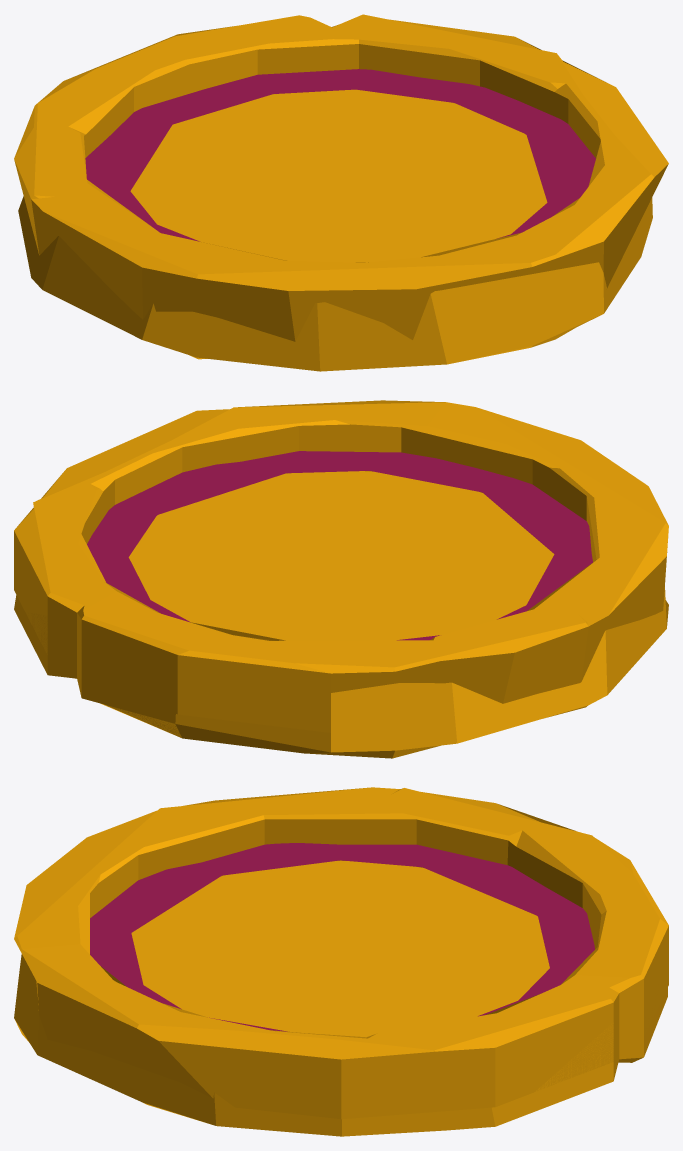
The model's file is geniecoin-blank.glb.
The picture shows the model from 3 angles, top to bottom: view 1: azimuth 30°, elevation 25°; view 2: azimuth 150°, elevation 25°; view 3: azimuth 270°, elevation 25°; orthographic projection.
Visible parts, largest first — view 1: coin-blank; view 2: coin-blank; view 3: coin-blank.
Part boxes in pixels (left/top/right/bottom): coin-blank: left=14, top=14, right=668, bottom=371; coin-blank: left=14, top=400, right=668, bottom=758; coin-blank: left=14, top=787, right=668, bottom=1136.
Size of the model in its own units: 1.96 by 0.309 by 2.
